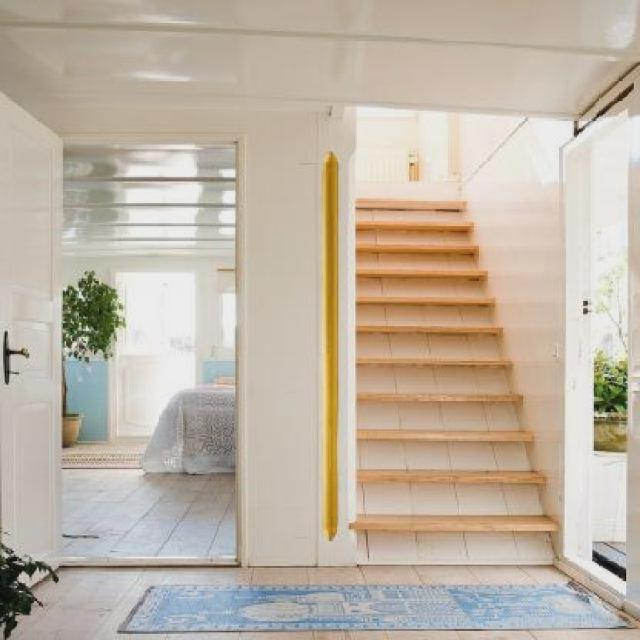stair: (273, 145, 593, 578)
